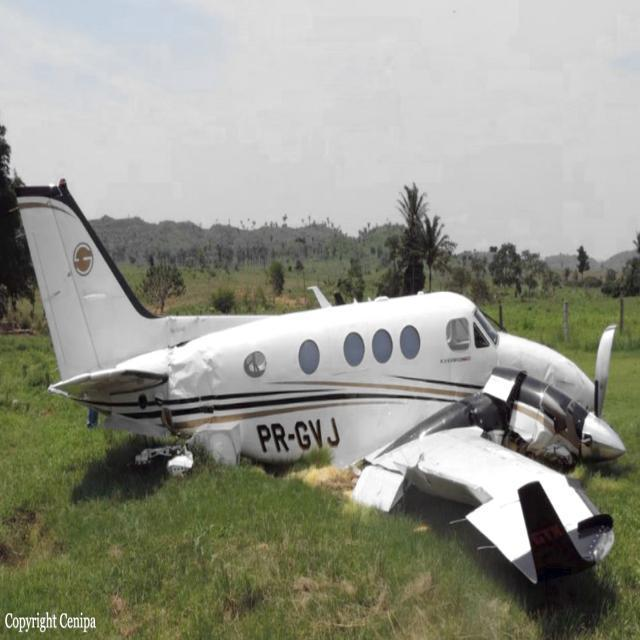dent: (170, 342, 223, 409)
